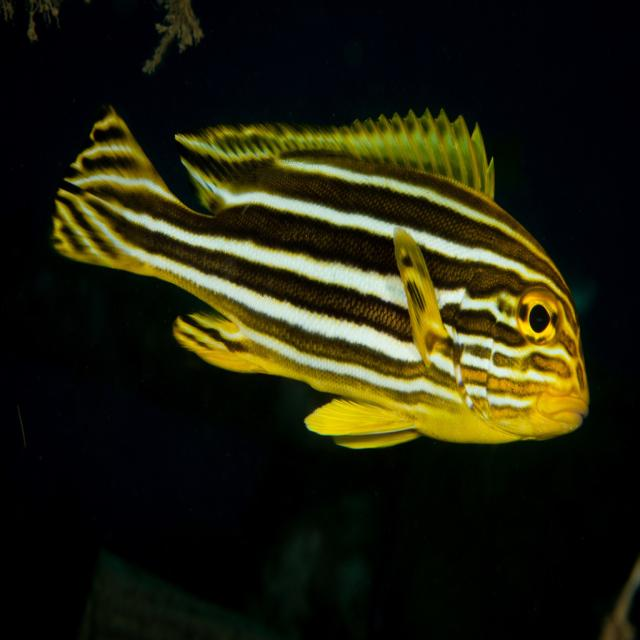RibbonedSweetlips: (48, 101, 591, 452)
